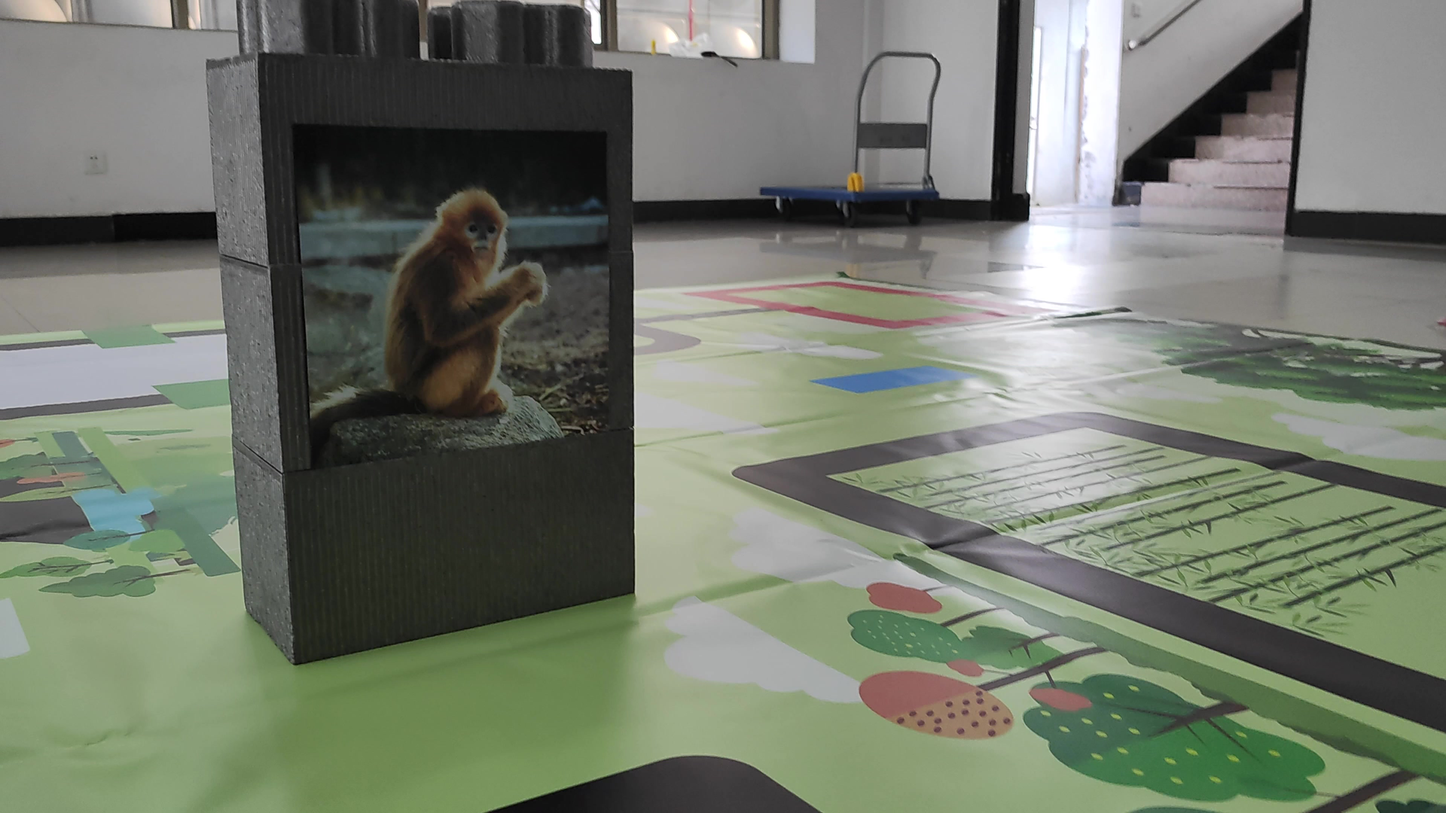monkey: (307, 161, 573, 457)
